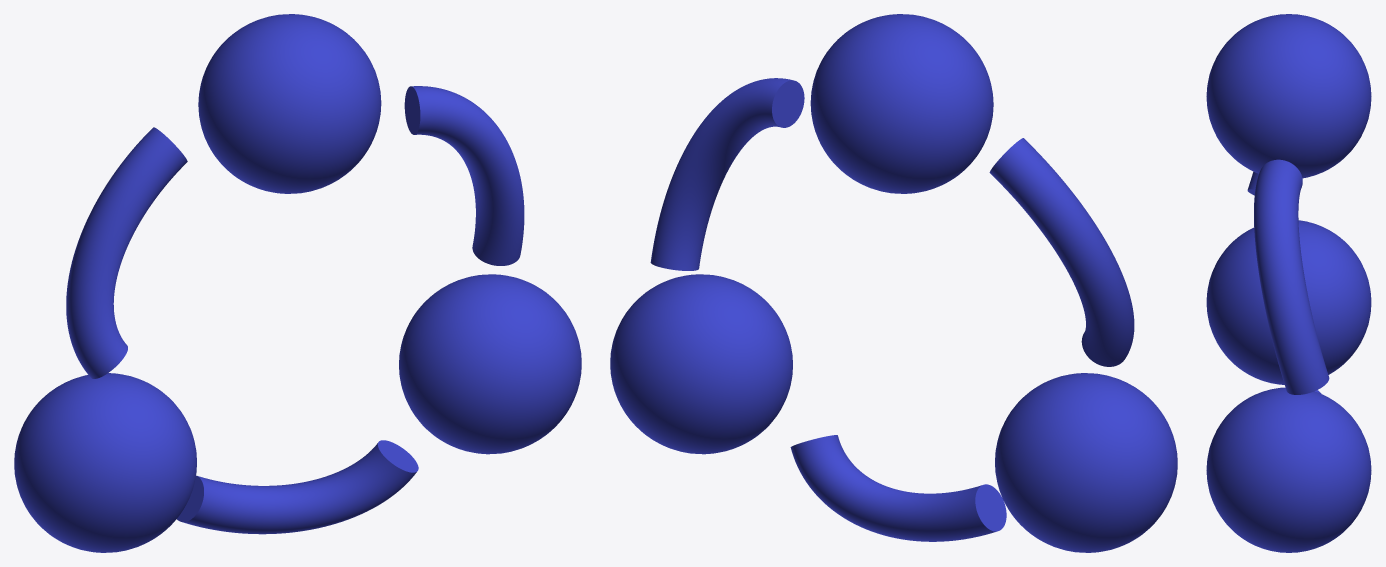
Rendered from maddeninhalleri.fbx.
3 views of the same model, side by side, from view 1: azimuth 30°, elevation 25°; view 2: azimuth 150°, elevation 25°; view 3: azimuth 270°, elevation 25° (orthographic). The views are drawn at different scales.
Parts seen in each view (by area): view 1: root (×6); view 2: root (×6); view 3: root (×4).
Part boxes in pixels (<box>): root (×6): <box>14,14,581,552</box>; root (×6): <box>610,14,1177,552</box>; root (×4): <box>1206,14,1371,552</box>.
Size of the model in its own units: 0.4539 by 0.4078 by 0.13.
